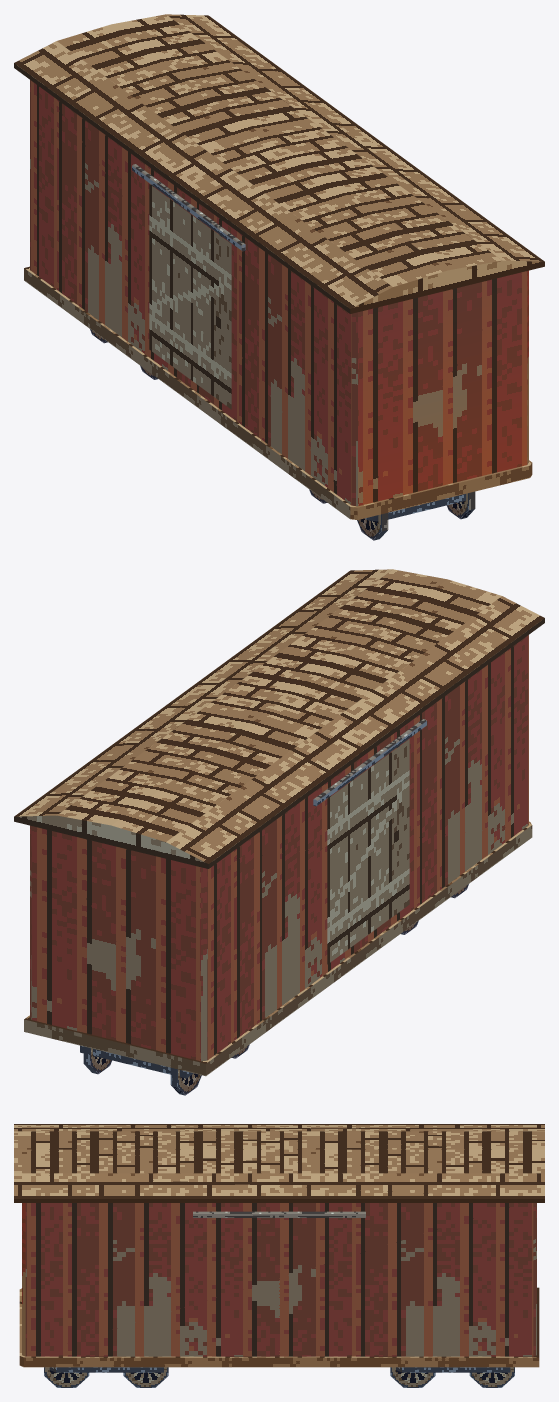
Rendered from wrail.car.glb.
3 views of the same model, one above another, from view 1: azimuth 30°, elevation 25°; view 2: azimuth 150°, elevation 25°; view 3: azimuth 270°, elevation 25° (orthographic). The views are drawn at different scales.
Visible parts, largest first — view 1: kit_body, kit_roof, kit_card_doors, kit_frame, kit_wheels, kit_door_track, kit_trucks; view 2: kit_body, kit_roof, kit_card_doors, kit_frame, kit_wheels, kit_door_track, kit_trucks; view 3: kit_body, kit_roof, kit_frame, kit_wheels, kit_trucks, kit_door_track.
Part boxes in pixels (x1,y1,x2,y2): kit_body: (30, 80, 528, 506); kit_roof: (14, 14, 544, 313); kit_card_doors: (149, 184, 231, 409); kit_frame: (24, 266, 532, 519); kit_wheels: (90, 329, 475, 540); kit_door_track: (132, 164, 245, 251); kit_trucks: (365, 494, 465, 521); kit_body: (30, 635, 528, 1061); kit_roof: (14, 569, 544, 868); kit_card_doors: (327, 739, 409, 964); kit_frame: (24, 821, 532, 1076); kit_wheels: (83, 884, 468, 1095); kit_door_track: (313, 719, 426, 806); kit_trucks: (80, 1045, 193, 1078); kit_body: (22, 1203, 536, 1356); kit_roof: (14, 1124, 544, 1202); kit_frame: (19, 1287, 539, 1367); kit_wheels: (44, 1367, 514, 1387); kit_trucks: (49, 1367, 510, 1372); kit_door_track: (193, 1211, 365, 1217).
Size of the model in its own units: 2.46 by 3.37 by 7.36.
7 materials, 7 textured.
